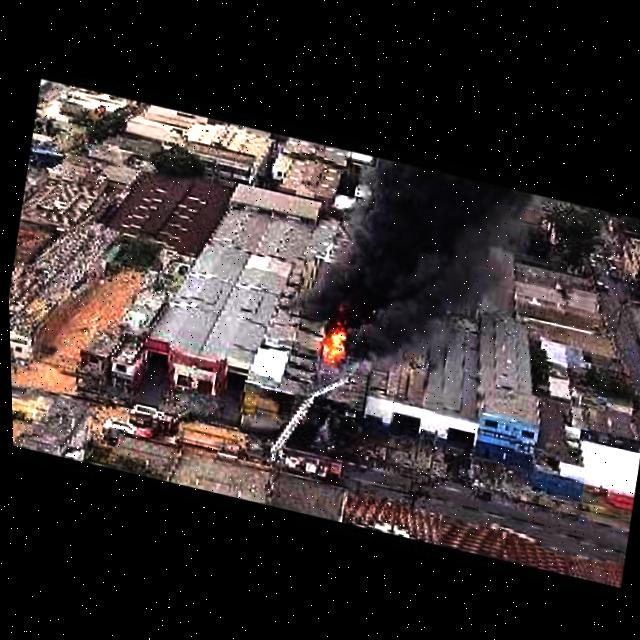Fire: (300, 287, 366, 373)
Smoke: (302, 128, 536, 353)
